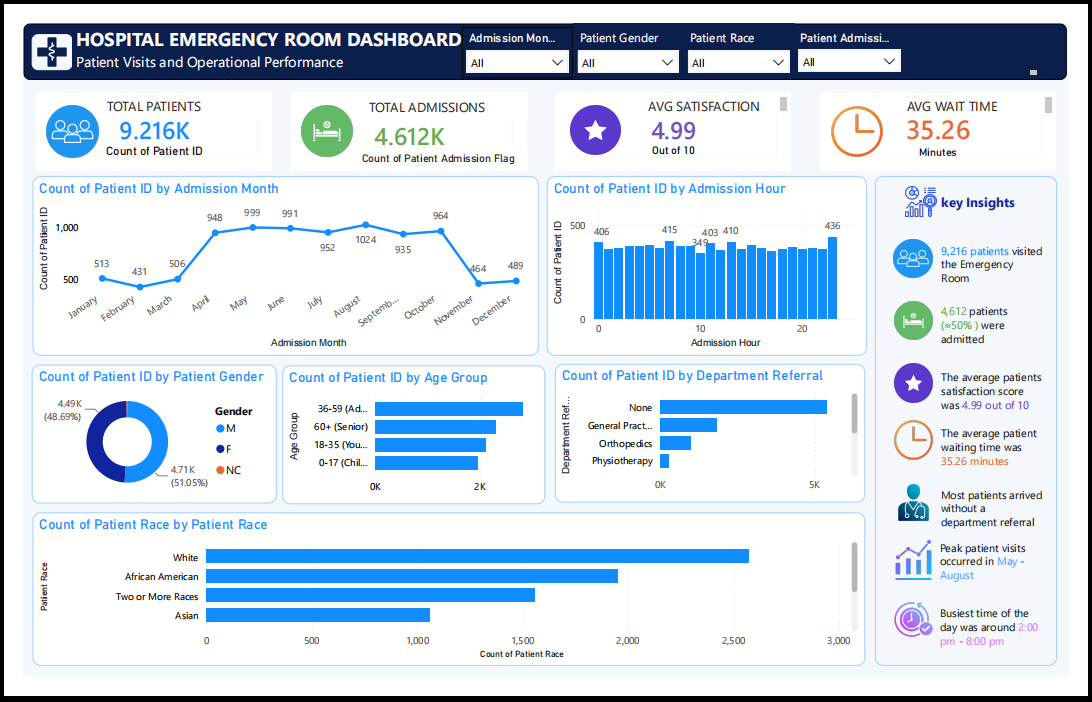

Layout of this report page (visuals, bound fields, positions):
{"tool":"powerbi","page":{"name":"Page 2","canvas":[1280,800],"ordinal":0},"visuals":[{"type":"textbox","box":[0,0,1278.4,69.4],"z":0},{"type":"textbox","box":[9.9,12.8,49.6,43.9],"z":1000},{"type":"image","box":[11.3,15.6,46.8,38.3],"z":2000},{"type":"textbox","title":"HOSPITAL EMERGENCY ROOM DASHBOARD","box":[59.5,4.3,1186.3,62.4],"z":3000},{"type":"slicer","fields":{"Values":["Hospital ER Data.Admission Month"]},"box":[537.3,4.4,135.4,62.6],"z":4000},{"type":"slicer","fields":{"Values":["Hospital ER Data.Patient Gender"]},"box":[672.8,0,135.4,62.6],"z":5000},{"type":"slicer","fields":{"Values":["Hospital ER Data.Patient Race"]},"box":[808.2,0,135.4,62.6],"z":6000},{"type":"slicer","fields":{"Values":["Hospital ER Data.Patient Admission Flag"]},"box":[943.6,4.4,135.4,62.6],"z":7000},{"type":"cardVisual","title":"TOTAL PATIENTS","fields":{"Data":["CountNonNull(Hospital ER Data.Patient ID)"]},"box":[16,90,288,90],"z":8000},{"type":"cardVisual","title":"TOTAL ADMISSIONS","fields":{"Data":["CountNonNull(Hospital ER Data.Patient Admission Flag)"]},"box":[328,90,288,90],"z":9000},{"type":"cardVisual","title":"AVG SATISFACTION SCORE","fields":{"Data":["Avg(Hospital ER Data.Patient Satisfaction Score)"]},"box":[652,90,288,90],"z":10000},{"type":"cardVisual","title":"AVG WAIT TIME","fields":{"Data":["Avg(Hospital ER Data.Patient Wait Time)"]},"box":[975.7,90,288.6,90],"z":11000},{"type":"lineChart","fields":{"Category":["Hospital ER Data.Admission Month"],"Y":["CountNonNull(Hospital ER Data.Patient ID)"]},"box":[11.4,187.1,620,220],"z":12000},{"type":"columnChart","fields":{"Category":["Hospital ER Data.Admission Hour"],"Y":["CountNonNull(Hospital ER Data.Patient ID)"]},"box":[641.4,187.1,391.4,220],"z":13000},{"type":"donutChart","fields":{"Category":["Hospital ER Data.Patient Gender"],"Y":["CountNonNull(Hospital ER Data.Patient ID)"]},"box":[10.2,417.9,300,170.4],"z":14000},{"type":"clusteredBarChart","fields":{"Category":["Hospital ER Data.Age Group"],"Y":["CountNonNull(Hospital ER Data.Patient ID)"]},"box":[317.1,418.6,321.4,170],"z":15000},{"type":"barChart","fields":{"Category":["Hospital ER Data.Department Referral"],"Y":["CountNonNull(Hospital ER Data.Patient ID)"]},"box":[651.4,417.1,380,170],"z":16000},{"type":"clusteredBarChart","fields":{"Category":["Hospital ER Data.Patient Race"],"Y":["CountNonNull(Hospital ER Data.Patient Race)"]},"box":[11.4,598.6,1020,188.6],"z":17000},{"type":"textbox","box":[975.7,85,288,30],"z":18000},{"type":"textbox","box":[652.9,85,287.1,28.6],"z":19000},{"type":"textbox","box":[328.6,85,288.6,32.9],"z":20000},{"type":"textbox","box":[15.7,85,288.6,32.9],"z":21000},{"type":"image","box":[20,100,78.6,64.3],"z":22000},{"type":"textbox","box":[410,151.4,207.1,28.6],"z":23000},{"type":"image","box":[332.9,100,77.1,62.9],"z":24000},{"type":"image","box":[982,101.4,77.1,61.4],"z":25000},{"type":"image","box":[661.4,100,78.6,61.4],"z":26000},{"type":"textbox","box":[1042.9,187.1,222.9,600],"z":26001},{"type":"image","box":[1080,200,38.6,37.1],"z":26002},{"type":"textbox","box":[1120,202.9,100,34.3],"z":26003},{"type":"image","box":[1058.6,264.3,60,47.1],"z":26004},{"type":"image","box":[1060,340,60,47.1],"z":26005},{"type":"image","box":[1060,417.1,60,47.1],"z":26006},{"type":"image","box":[1060,487.1,60,47.1],"z":26007},{"type":"image","box":[1060,562.9,60,47.1],"z":26008},{"type":"image","box":[1060,634.3,60,47.1],"z":26009},{"type":"image","box":[1060,707.1,60,47.1],"z":26010},{"type":"textbox","box":[1120,263.8,135,63.8],"z":26011},{"type":"textbox","box":[1118.8,337.5,135,62.5],"z":26012},{"type":"textbox","box":[1120,418.8,135,62.5],"z":26013},{"type":"textbox","box":[1120,487.5,135,62.5],"z":26014},{"type":"textbox","box":[1118.8,562.5,135,71.2],"z":26015},{"type":"textbox","box":[1117.5,627.5,136.2,65],"z":26017},{"type":"textbox","box":[1117.5,707.5,135,66.2],"z":26018}]}

Visuals, with their boxes in screenshot pixels (x1, y1, x2, y2), scaled from the page's 1280x800 canvas onto the 1092x702 screenshot:
textbox: left=0, top=0, right=1091, bottom=61
textbox: left=8, top=11, right=51, bottom=50
image: left=10, top=14, right=50, bottom=47
"HOSPITAL EMERGENCY ROOM DASHBOARD" textbox: left=51, top=4, right=1063, bottom=59
slicer - Hospital ER Data.Admission Month: left=458, top=4, right=574, bottom=59
slicer - Hospital ER Data.Patient Gender: left=574, top=0, right=689, bottom=55
slicer - Hospital ER Data.Patient Race: left=689, top=0, right=805, bottom=55
slicer - Hospital ER Data.Patient Admission Flag: left=805, top=4, right=921, bottom=59
"TOTAL PATIENTS" cardVisual: left=14, top=79, right=259, bottom=158
"TOTAL ADMISSIONS" cardVisual: left=280, top=79, right=526, bottom=158
"AVG SATISFACTION SCORE" cardVisual: left=556, top=79, right=802, bottom=158
"AVG WAIT TIME" cardVisual: left=832, top=79, right=1079, bottom=158
lineChart - Hospital ER Data.Admission Month x CountNonNull(Hospital ER Data.Patient ID): left=10, top=164, right=539, bottom=357
columnChart - Hospital ER Data.Admission Hour x CountNonNull(Hospital ER Data.Patient ID): left=547, top=164, right=881, bottom=357
donutChart - Hospital ER Data.Patient Gender x CountNonNull(Hospital ER Data.Patient ID): left=9, top=367, right=265, bottom=516
clusteredBarChart - Hospital ER Data.Age Group x CountNonNull(Hospital ER Data.Patient ID): left=271, top=367, right=545, bottom=516
barChart - Hospital ER Data.Department Referral x CountNonNull(Hospital ER Data.Patient ID): left=556, top=366, right=880, bottom=515
clusteredBarChart - Hospital ER Data.Patient Race x CountNonNull(Hospital ER Data.Patient Race): left=10, top=525, right=880, bottom=691
textbox: left=832, top=75, right=1078, bottom=101
textbox: left=557, top=75, right=802, bottom=100
textbox: left=280, top=75, right=527, bottom=103
textbox: left=13, top=75, right=260, bottom=103
image: left=17, top=88, right=84, bottom=144
textbox: left=350, top=133, right=526, bottom=158
image: left=284, top=88, right=350, bottom=143
image: left=838, top=89, right=904, bottom=143
image: left=564, top=88, right=631, bottom=142
textbox: left=890, top=164, right=1080, bottom=691
image: left=921, top=176, right=954, bottom=208
textbox: left=956, top=178, right=1041, bottom=208
image: left=903, top=232, right=954, bottom=273
image: left=904, top=298, right=956, bottom=340
image: left=904, top=366, right=956, bottom=407
image: left=904, top=427, right=956, bottom=469
image: left=904, top=494, right=956, bottom=535
image: left=904, top=557, right=956, bottom=598
image: left=904, top=620, right=956, bottom=662
textbox: left=956, top=231, right=1071, bottom=287
textbox: left=954, top=296, right=1070, bottom=351
textbox: left=956, top=367, right=1071, bottom=422
textbox: left=956, top=428, right=1071, bottom=483
textbox: left=954, top=494, right=1070, bottom=556
textbox: left=953, top=551, right=1070, bottom=608
textbox: left=953, top=621, right=1069, bottom=679
